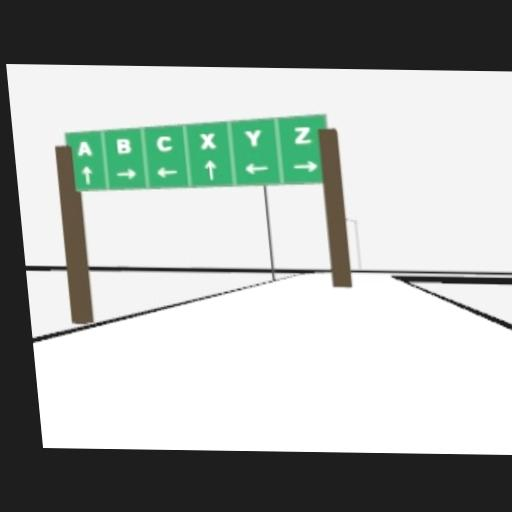A: (76, 140, 92, 156)
B: (115, 138, 131, 153)
C: (155, 135, 172, 151)
Left: (243, 163, 269, 174), (155, 167, 177, 178)
Right: (293, 161, 319, 172), (114, 167, 138, 178)
Straight: (80, 165, 93, 185), (204, 159, 216, 179)
X: (199, 133, 216, 149)
Y: (243, 128, 263, 147)
Z: (293, 125, 312, 143)
